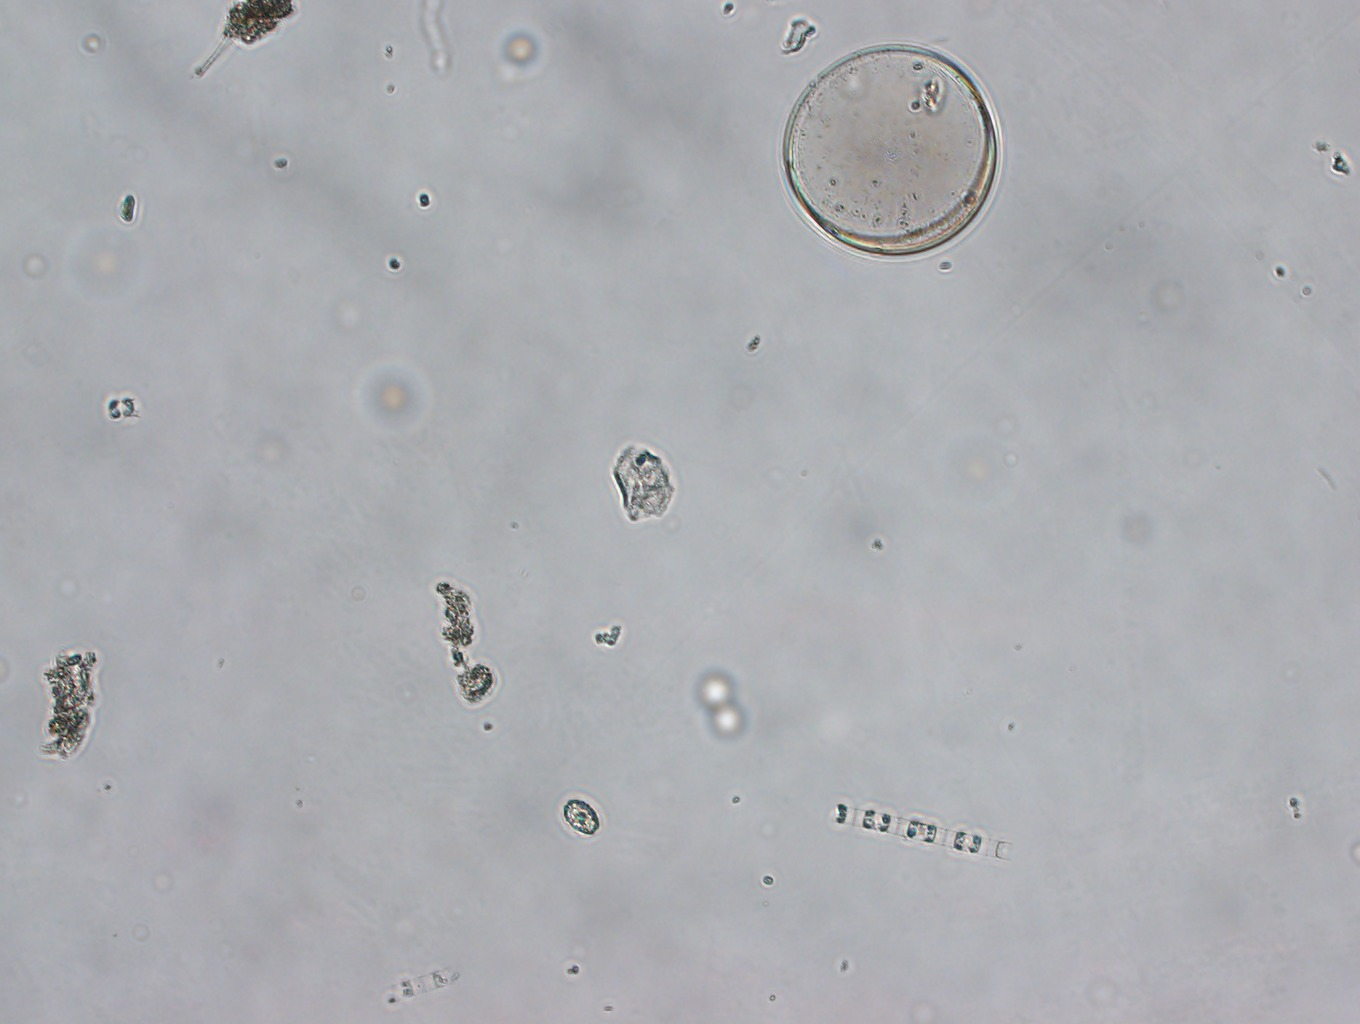coscinodiscus: (774, 37, 1007, 267)
skeletonema: (824, 800, 1018, 874)
